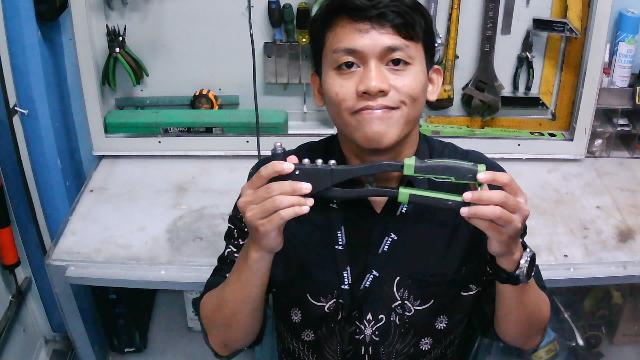tang_rivet: (269, 140, 488, 220)
